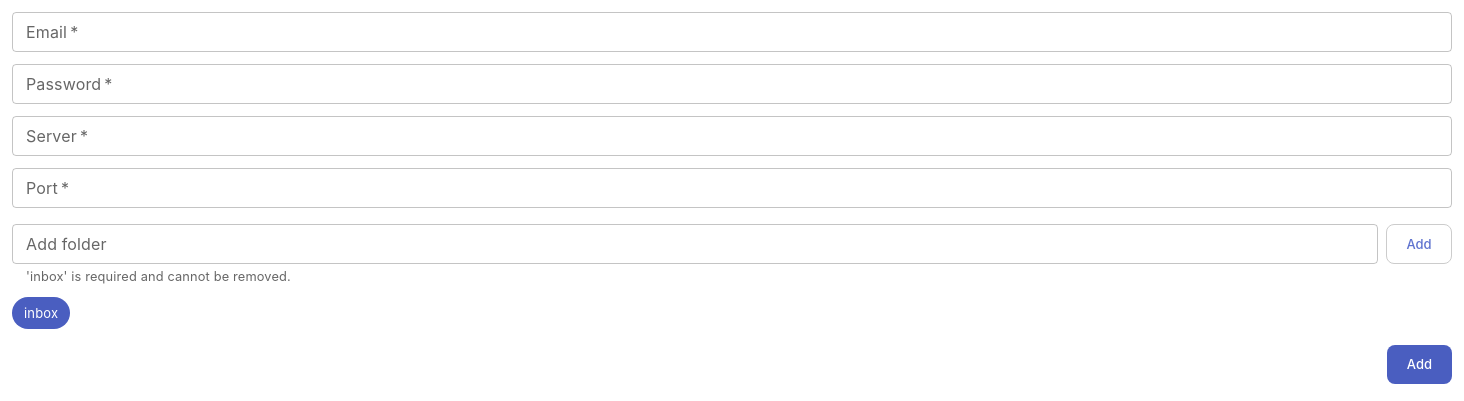
CreateImapForm › adds a new folder chip when folder name is entered and Add is clicked
The width and height of the screenshot is (1464, 401).
Type "sent" into the field labelled "Add folder" at (695, 244), box 12,224 -> 1378,264
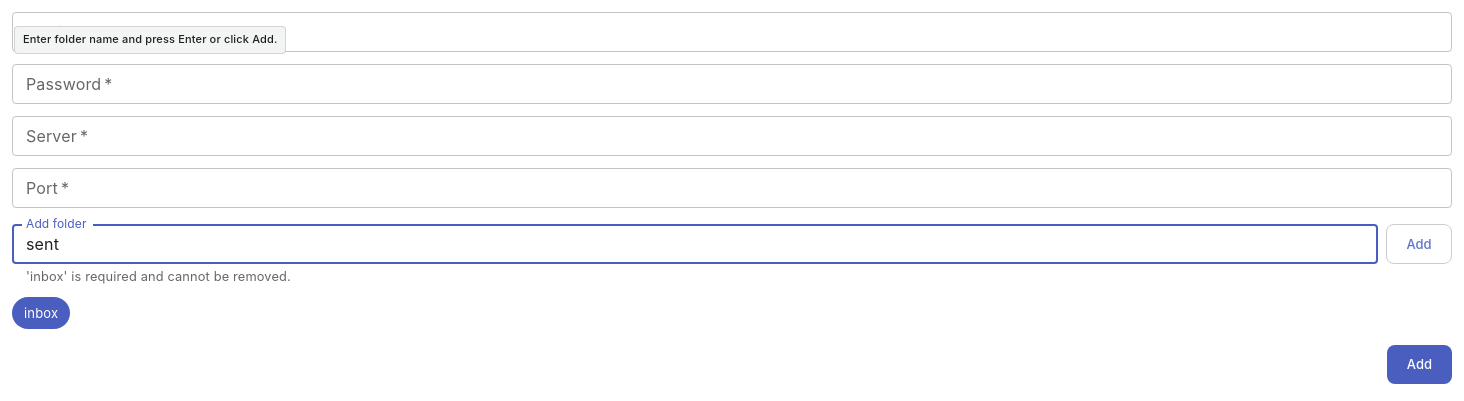
Click the button "Add" in the row of "Add folder" at (1419, 244), box 1386,224 -> 1452,264
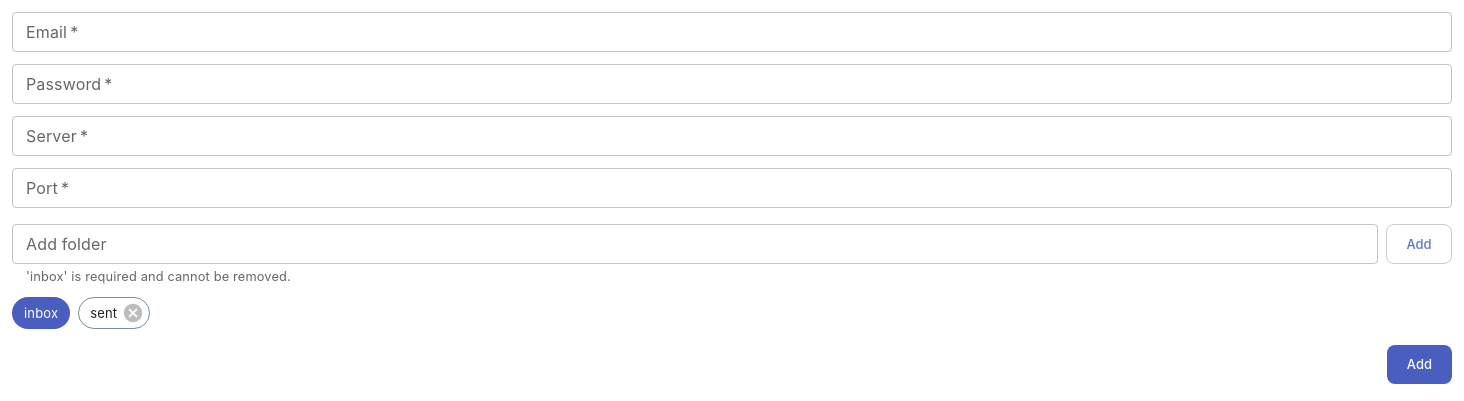
Now the text "sent" is shown, box 90,304 -> 117,320
